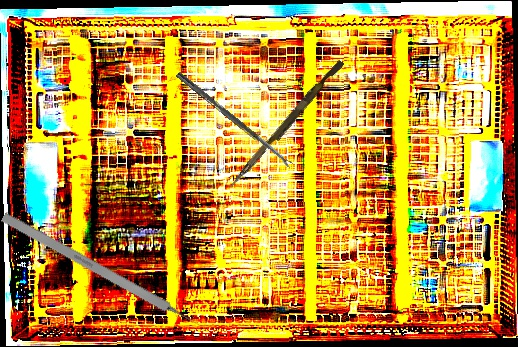Hook Surgical: (0, 211, 209, 334)
Pusher: (228, 56, 345, 193)
Surgical Spoon: (175, 71, 294, 170)
